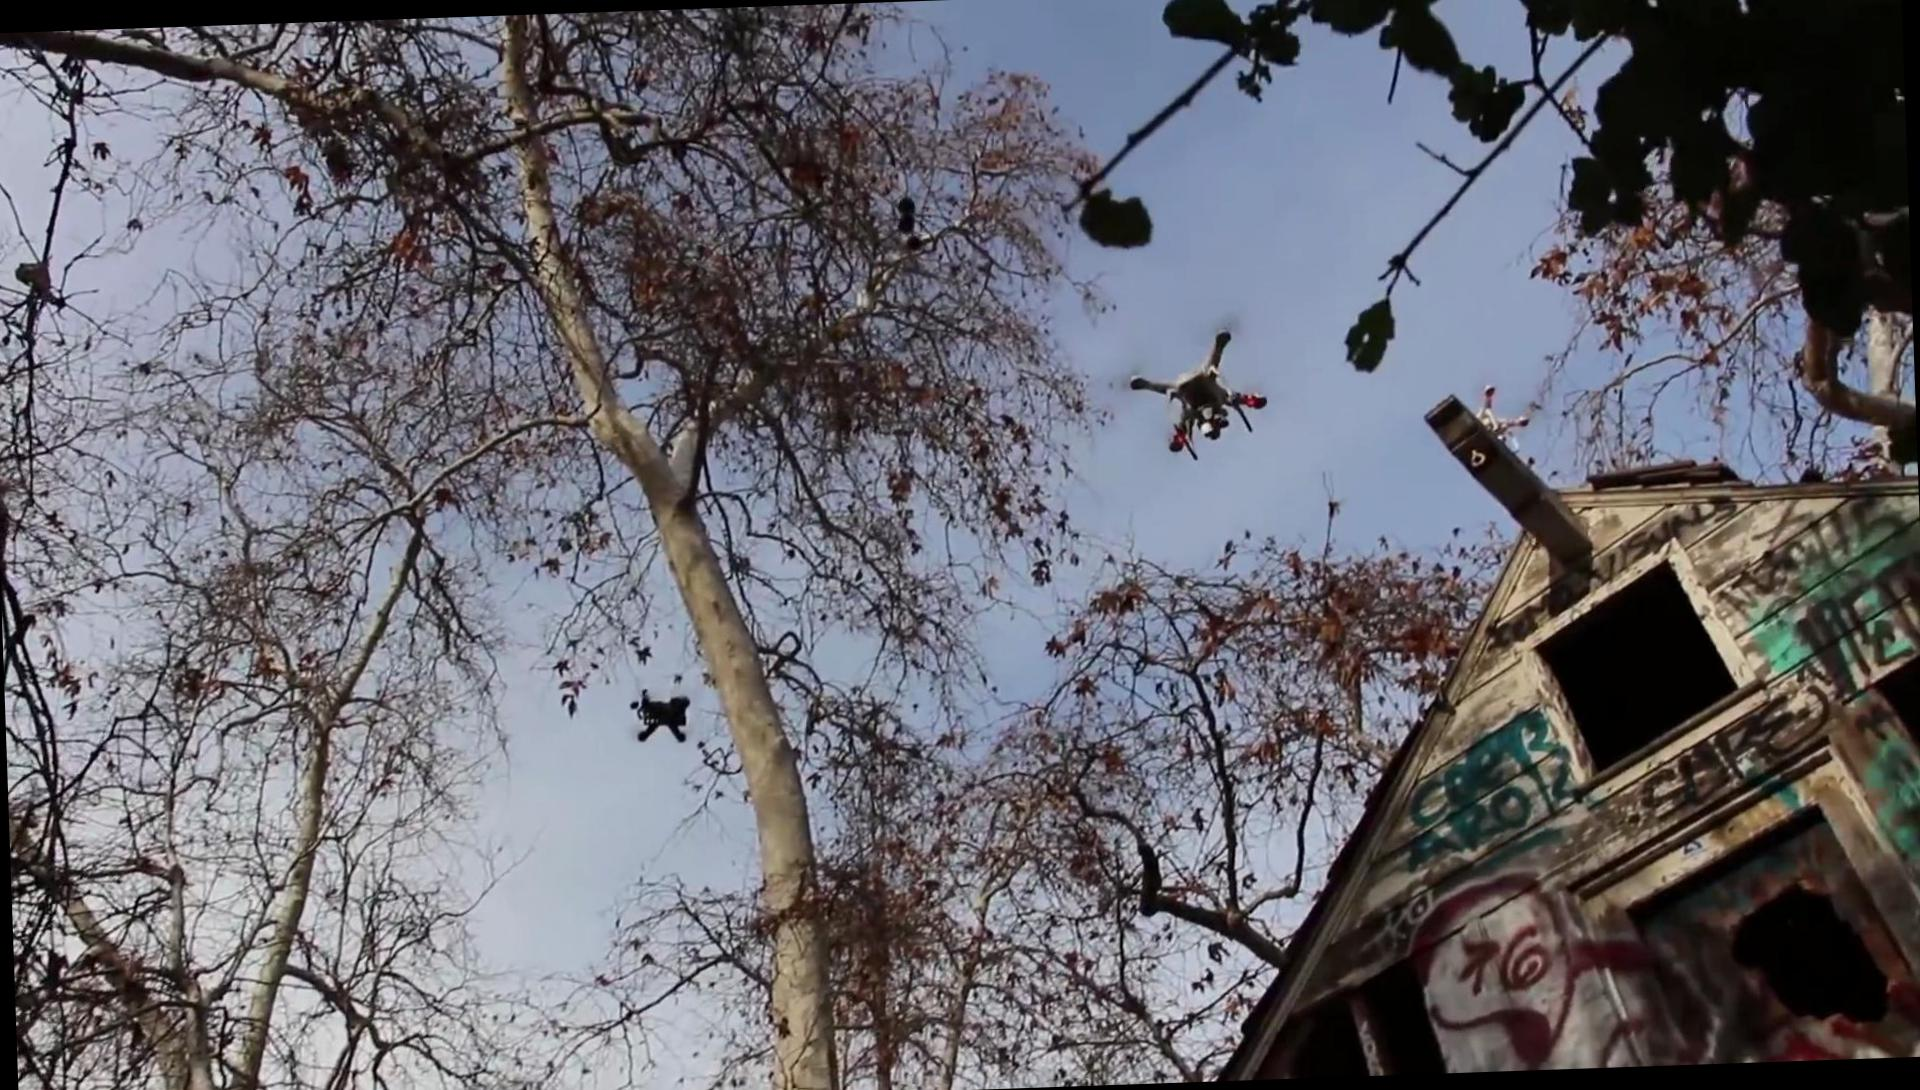drone: (1124, 320, 1269, 463)
